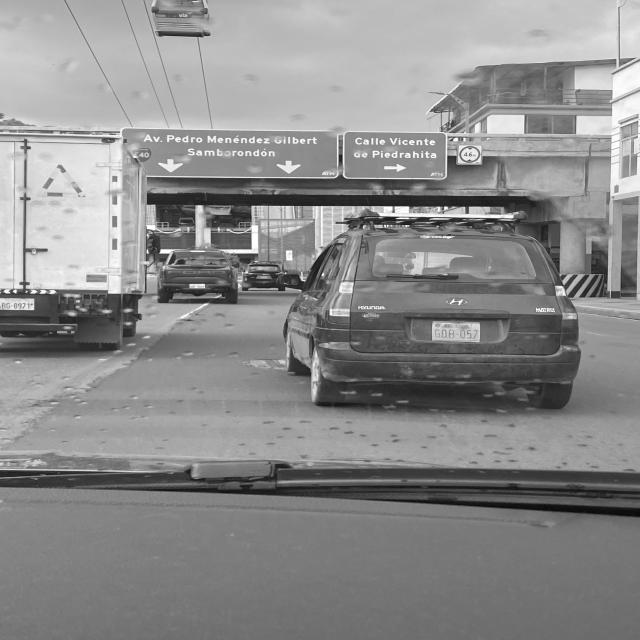Placa: (432, 322, 480, 342), (0, 298, 34, 310), (190, 284, 206, 289), (257, 276, 271, 279)
